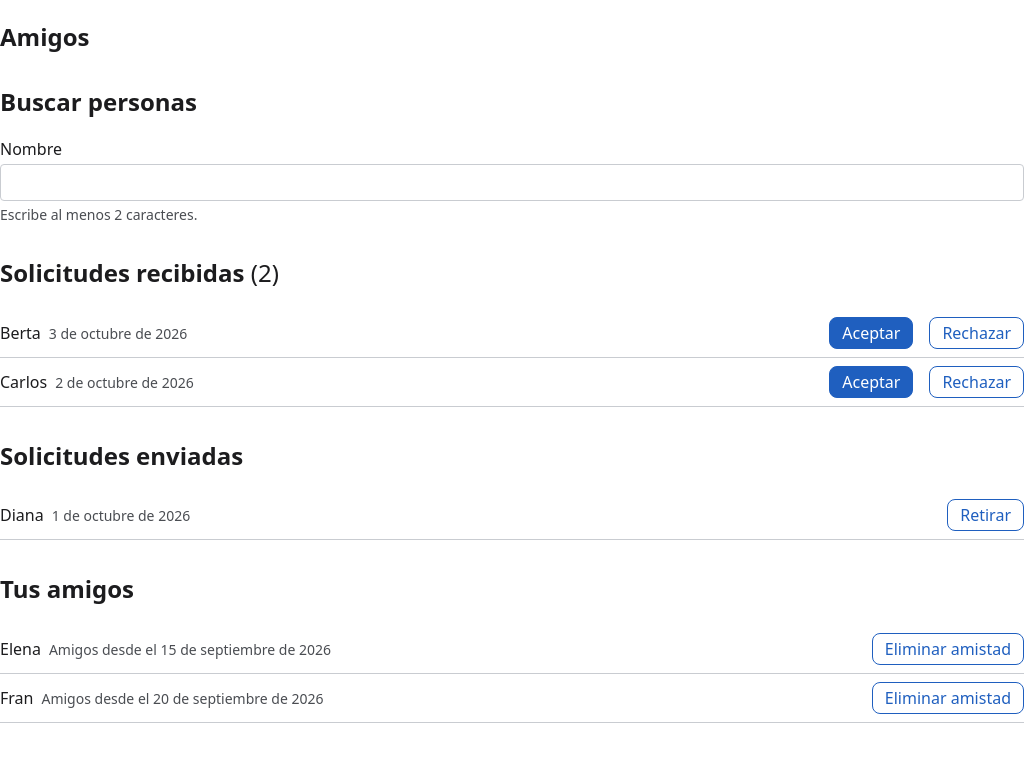
AmigosComponent › accesibilidad › el diálogo de eliminar tiene título y descripción asociados
The image size is (1024, 768).
Click the button "Eliminar amistad" in the row of "Elena". click: (948, 649)
box: x1=872 y1=633 x2=1023 y2=665
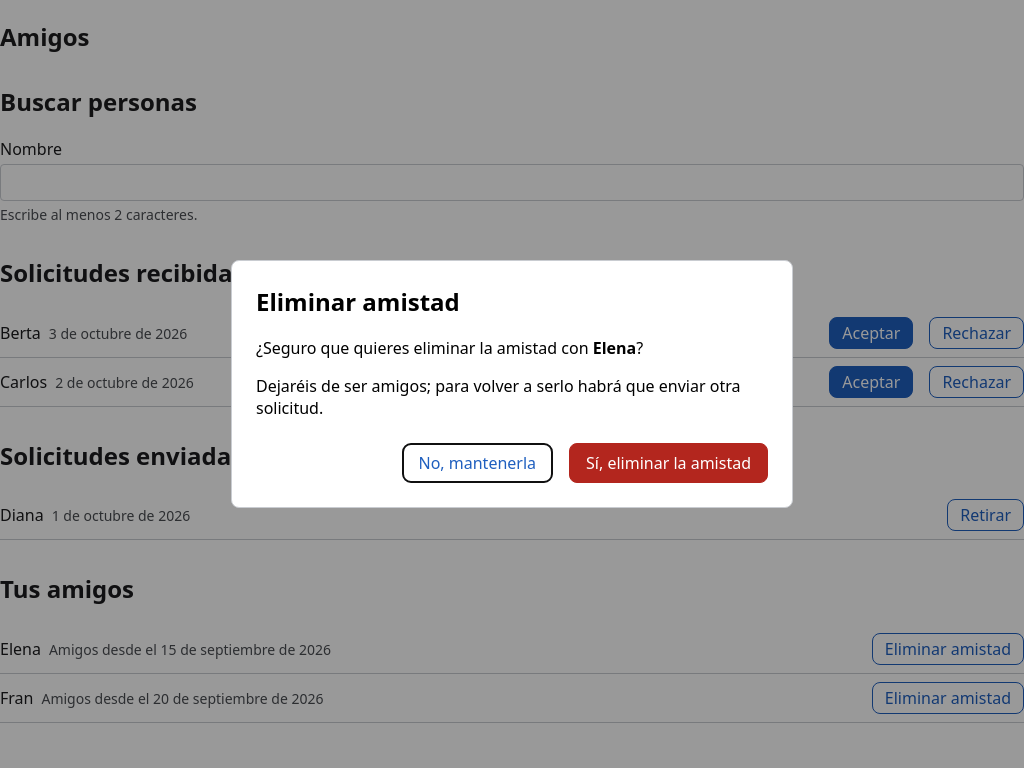
Check: the heading "Eliminar amistad" is shown, box x1=256 y1=284 x2=460 y2=318
